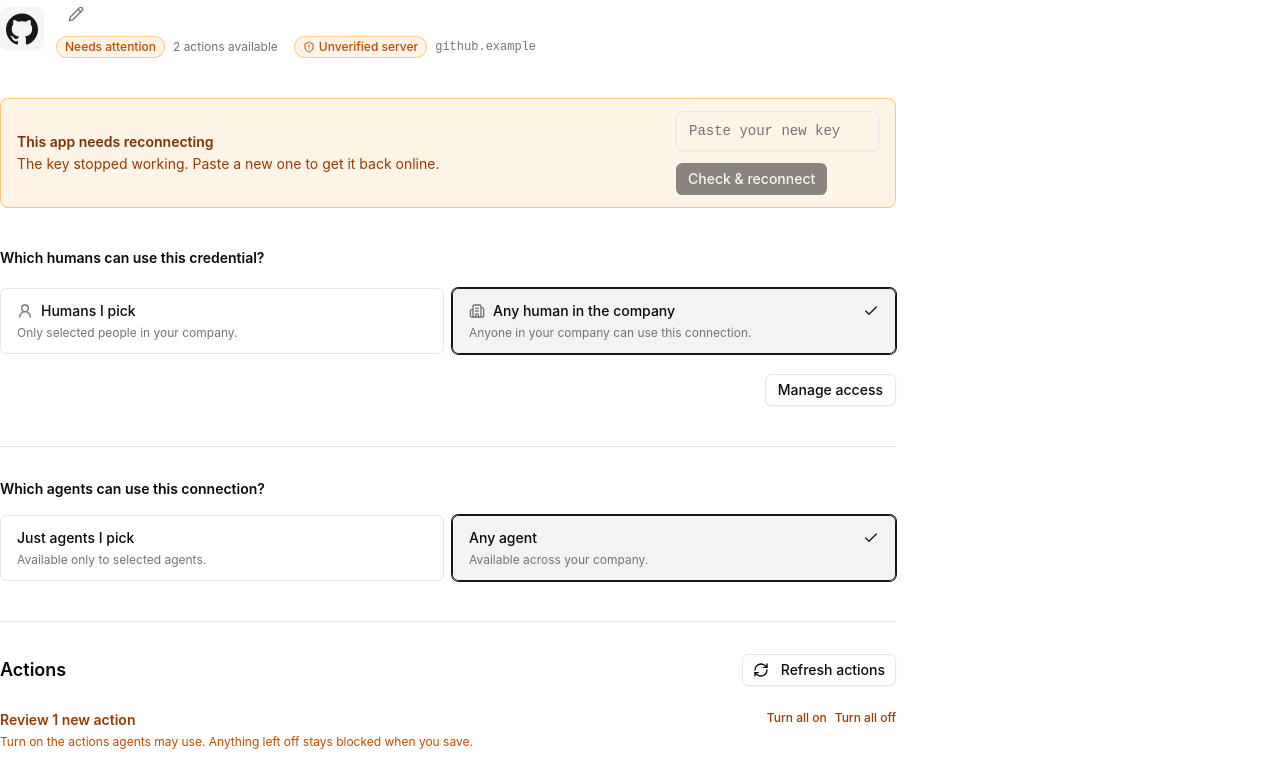
Scenario: AppDetail › persists a selected audience and keeps the dialog open when the server refuses
Click the button "Manage access": (830, 390) [765,374,896,406]
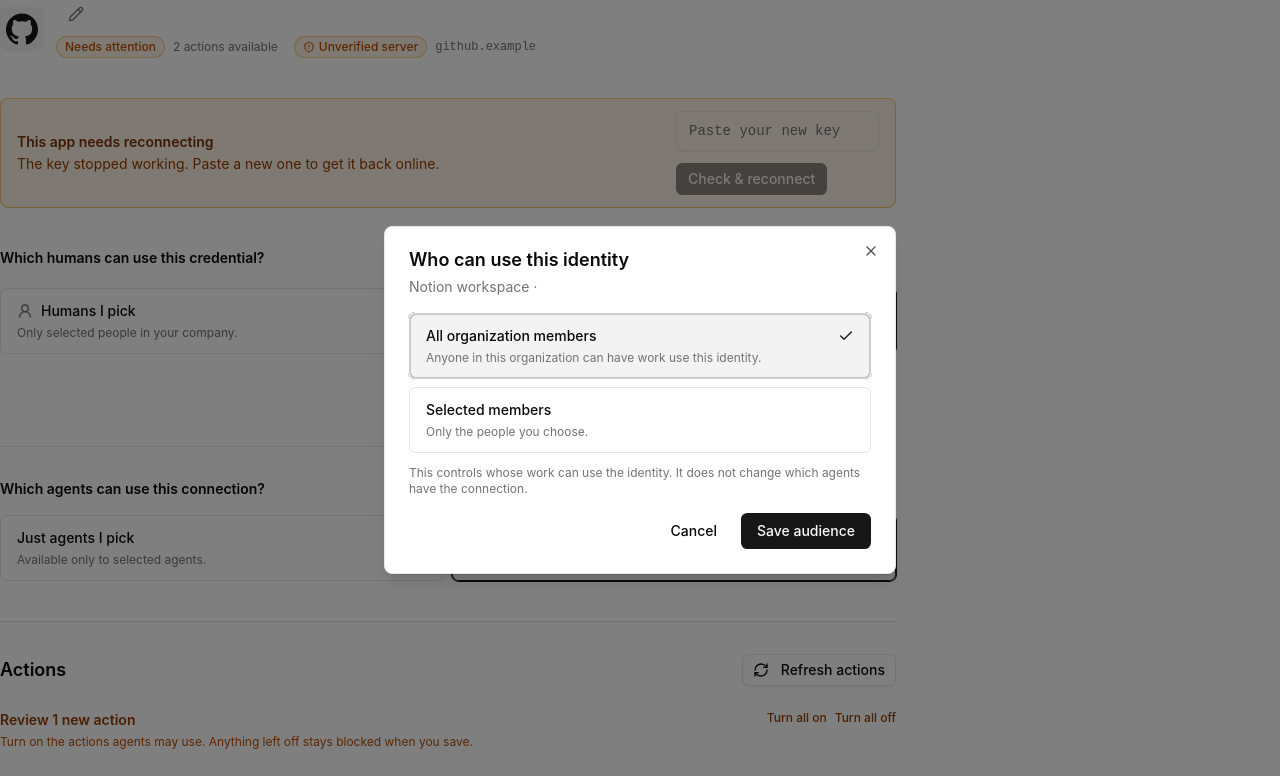
Click the radio button labelled "Selected members Only the people you choose.": (489, 410) [409,387,871,453]
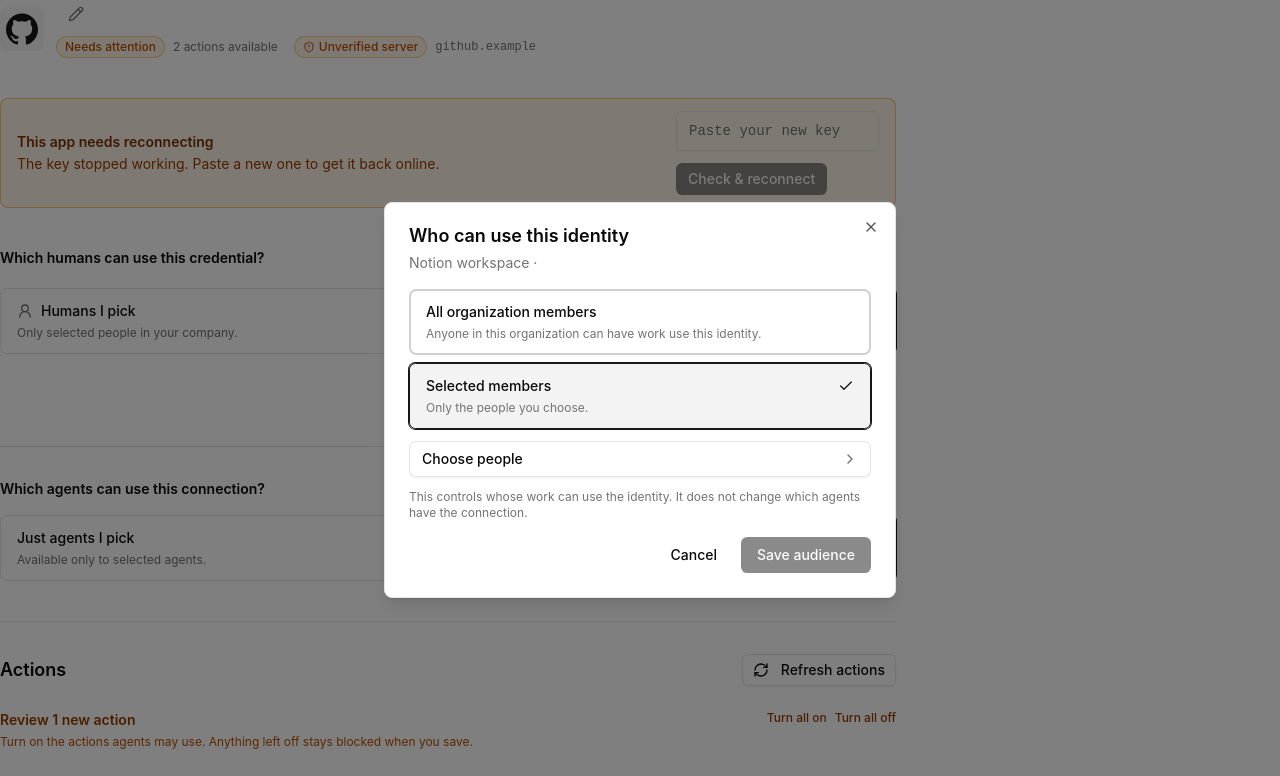
Click the button "Choose people": (472, 458) [409,441,871,477]
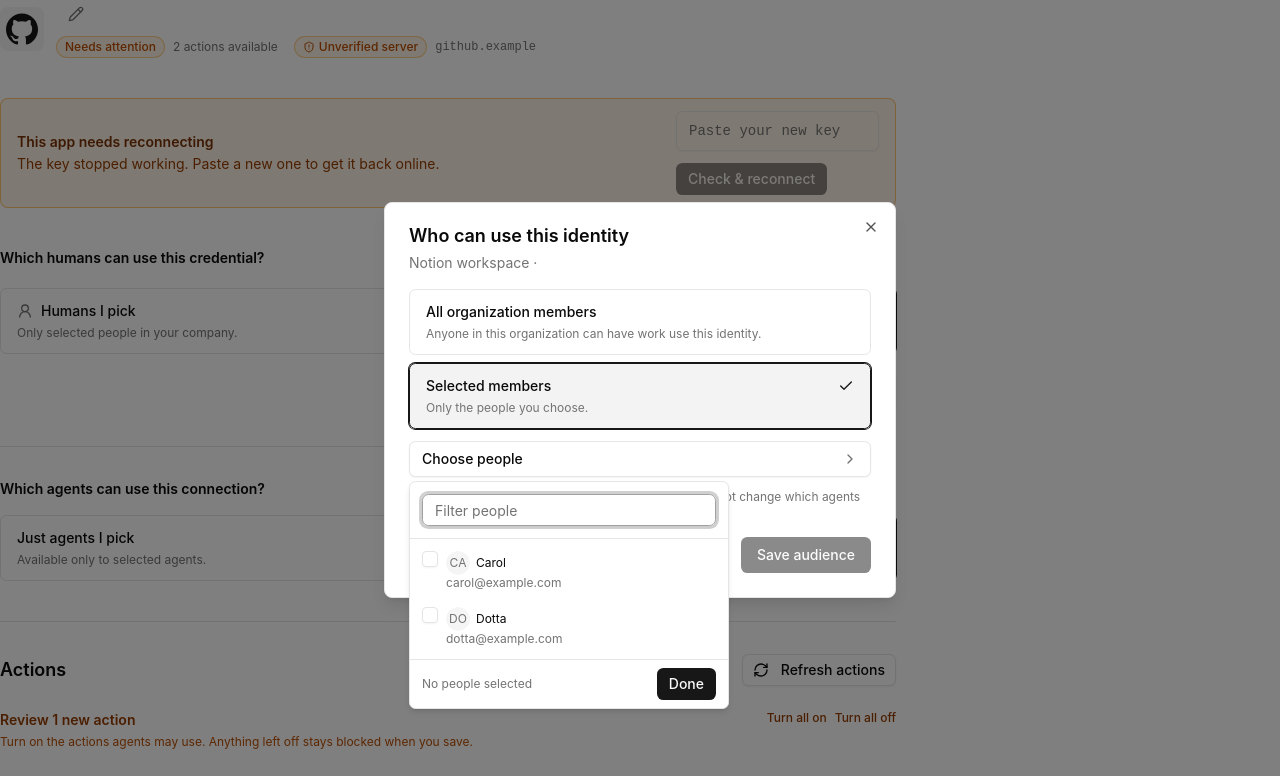
Click the checkbox named "Allow Carol": (430, 559) [422,551,438,567]
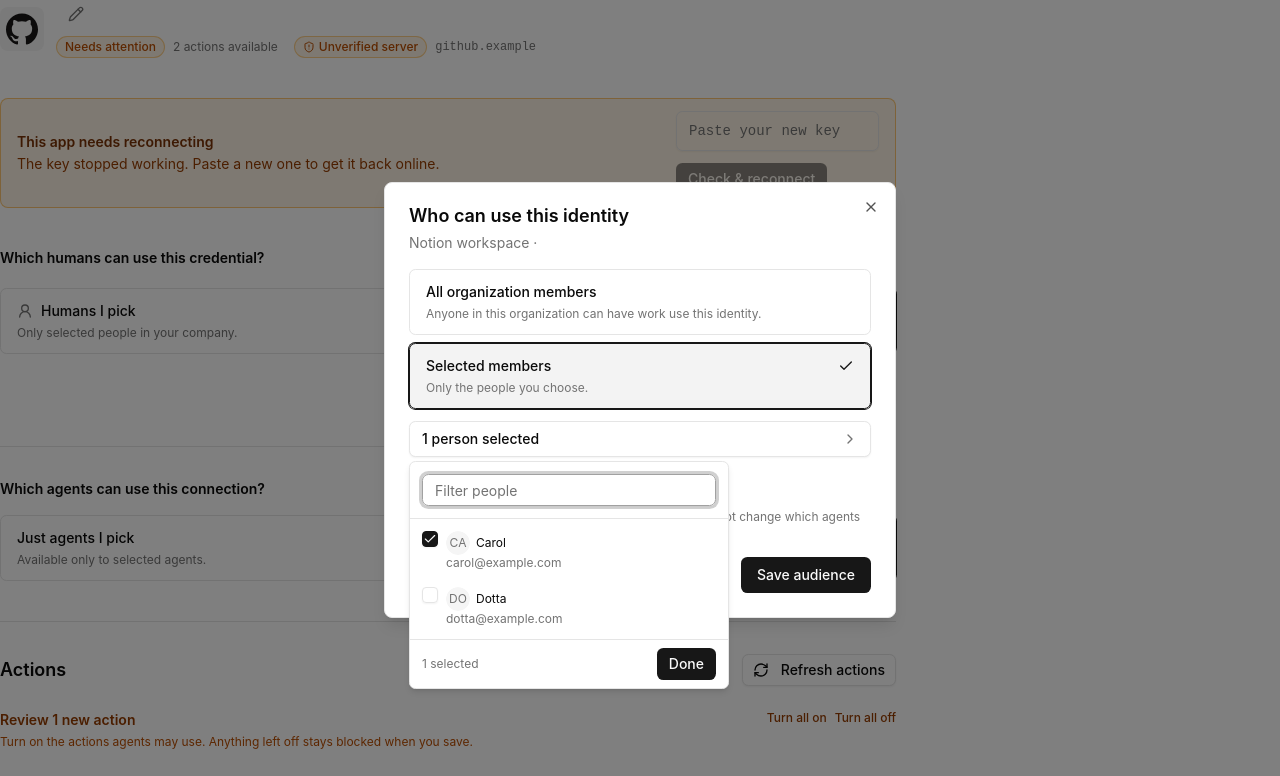
Click the button "Save audience": (806, 575) [741,557,871,593]
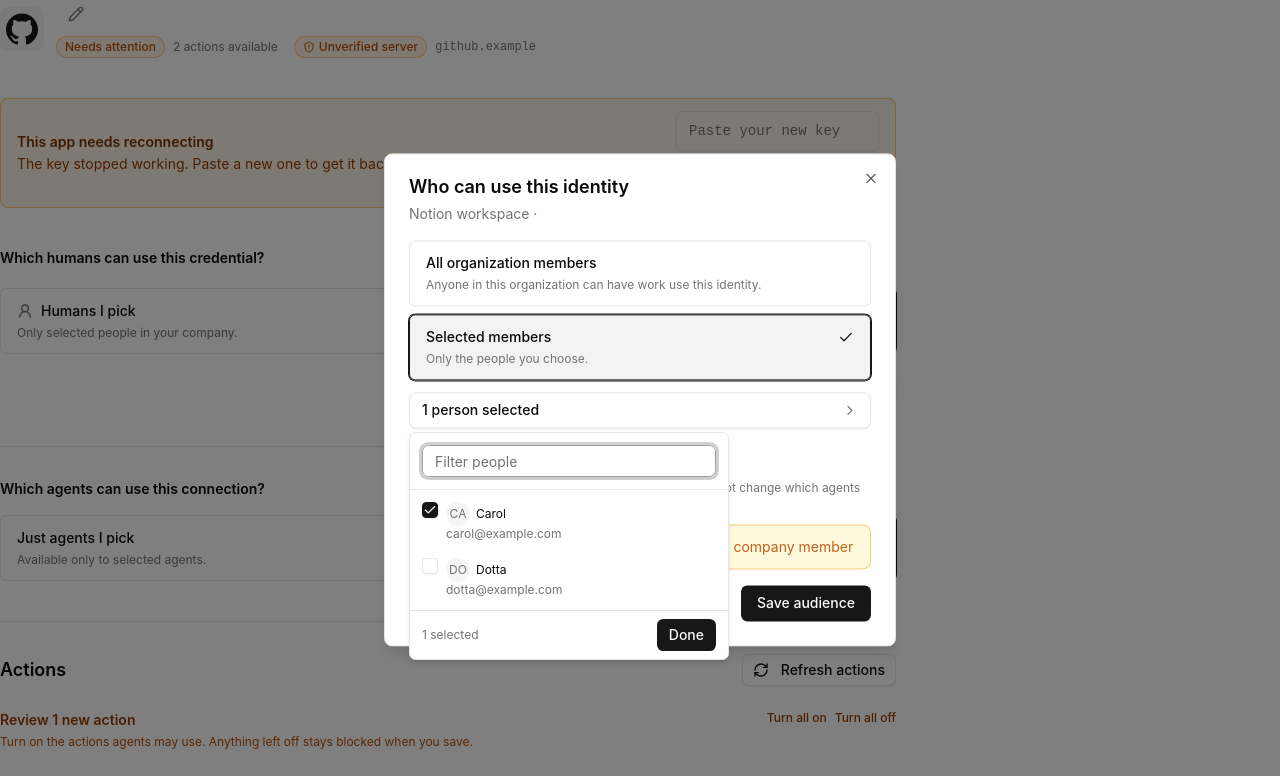
Now the text "Who can use this identity" is shown, box [409,176,629,197]
Now the text "Every audience member must be an active company member" is shown, box [448,537,853,557]
